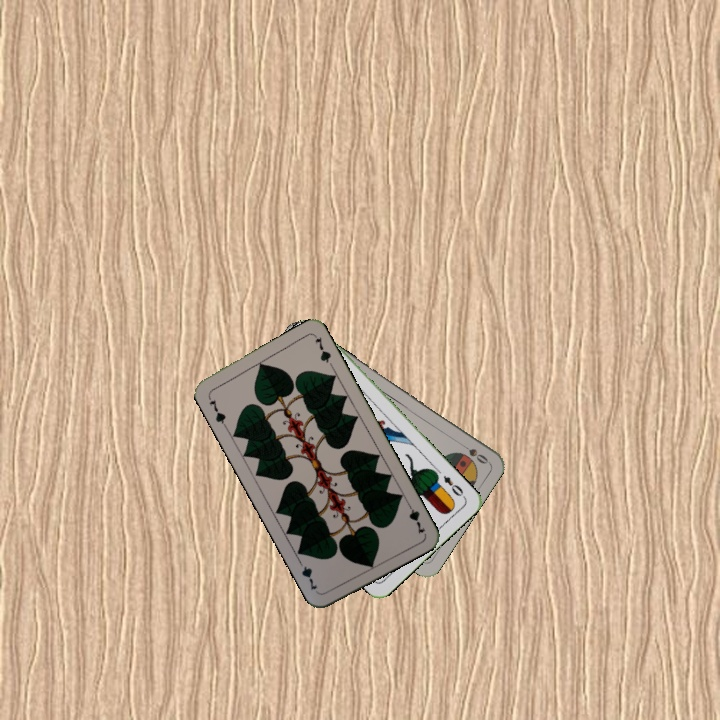EO: (439, 471, 468, 501)
G7: (402, 498, 428, 537), (204, 392, 229, 429)
SO: (455, 438, 491, 467)
